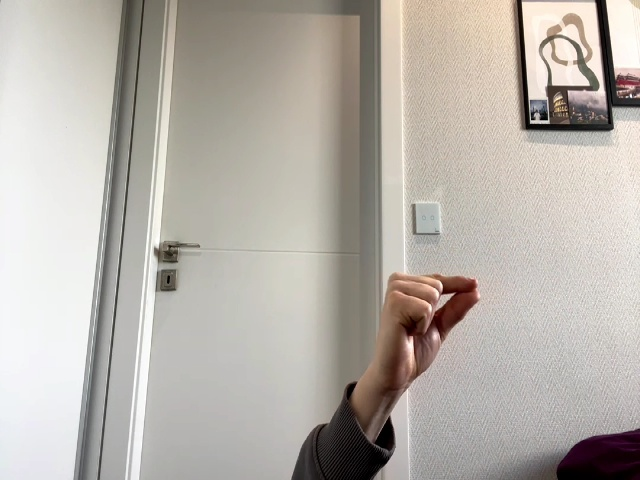P: (377, 272, 480, 400)
